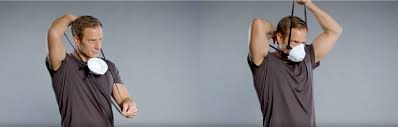mask_weared_incorrect: (85, 35, 108, 66)
with_mask: (289, 36, 307, 62)
